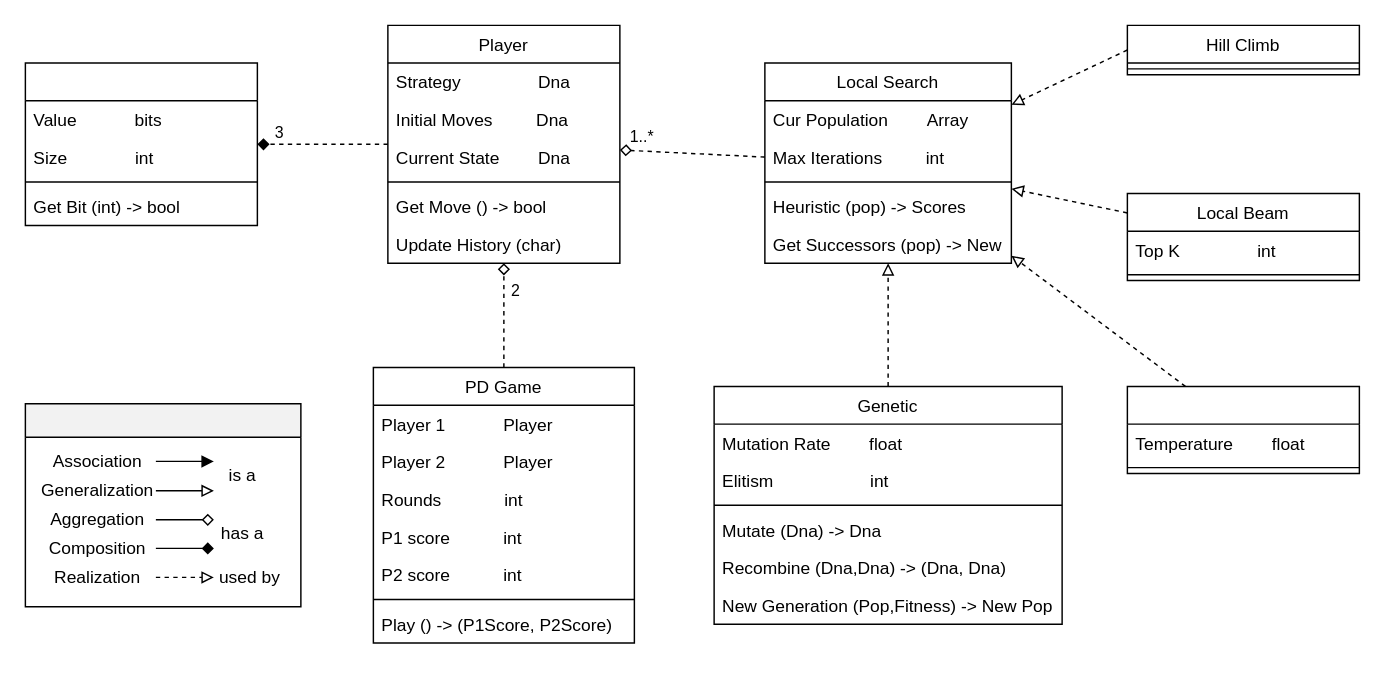
Image size: 1385x673. Some labels were removed from this diagram. Each missing label, with the box of its shape:
Annealing: (1126, 385, 1359, 473)
Dna: (24, 62, 257, 225)
Legend: (24, 402, 301, 607)
